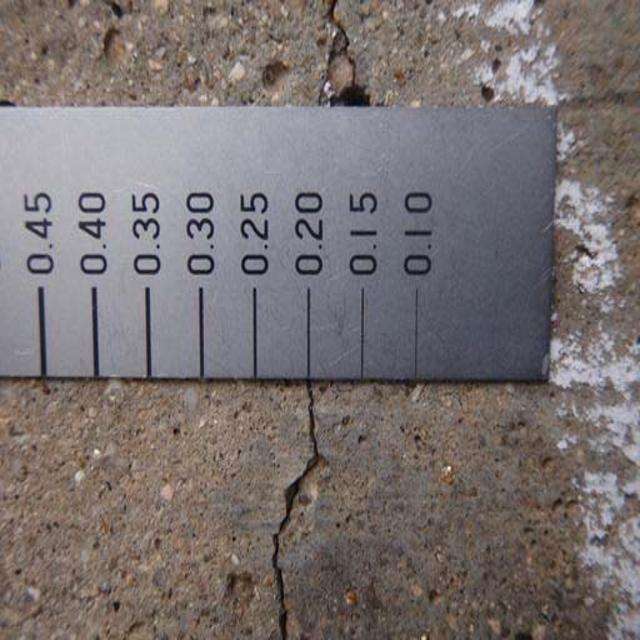crack: (260, 377, 356, 640), (310, 12, 384, 107)
